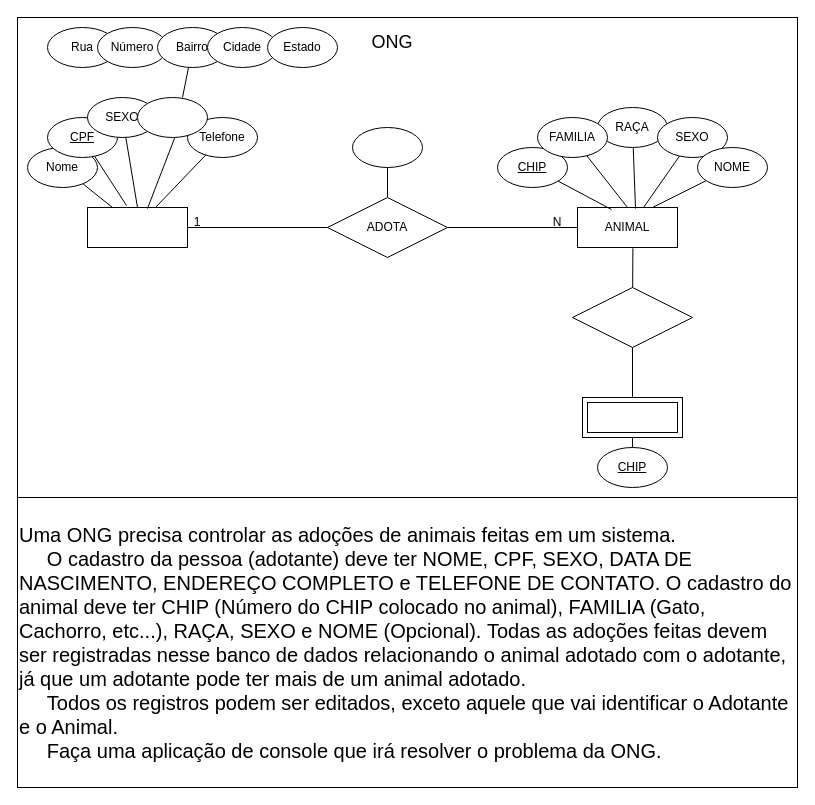
Some shapes in this 815 by 805 pixel diagram are drawn without their labels. Each missing label, with the centre of its shape:
Adoção: point (632, 317)
ANIMAIS DISPONIVEIS: point (632, 417)
Endereco: point (172, 117)
PESSOA: point (137, 227)
Quantidade: point (387, 147)
